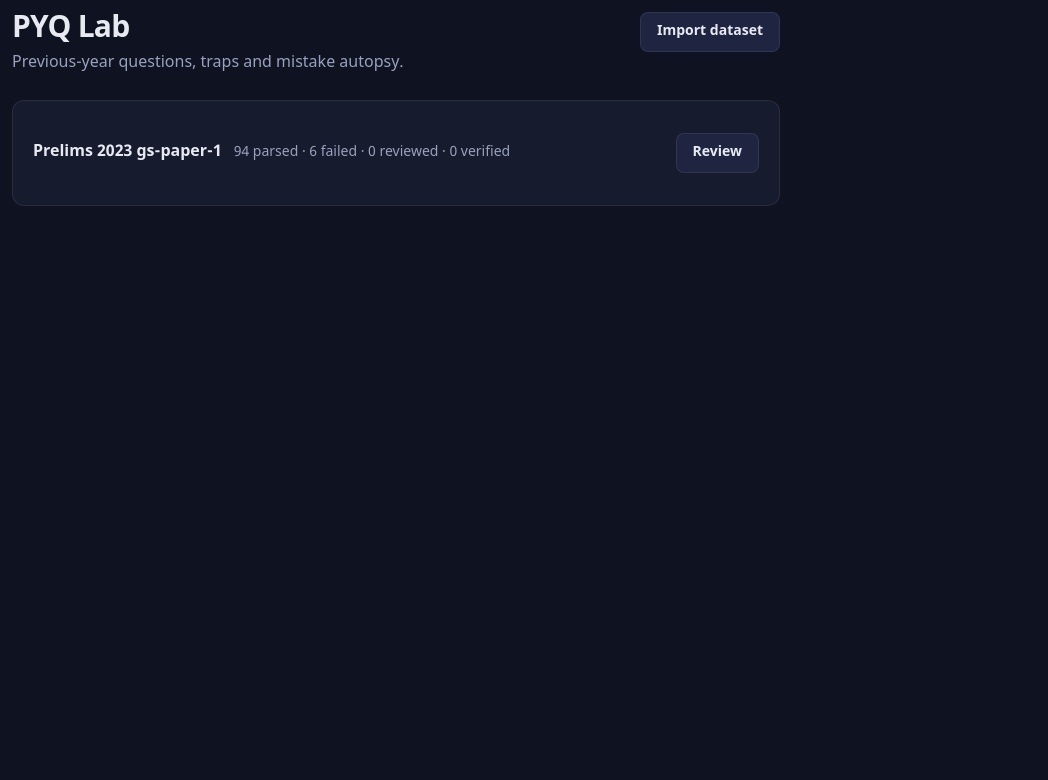
Test: PYQ screen › shows the raw text of a failed question next to the editor
Step 1. Click the button with aria-label "review prelims 2023 gs-paper-1" → [717, 153], box [676, 133, 759, 173]
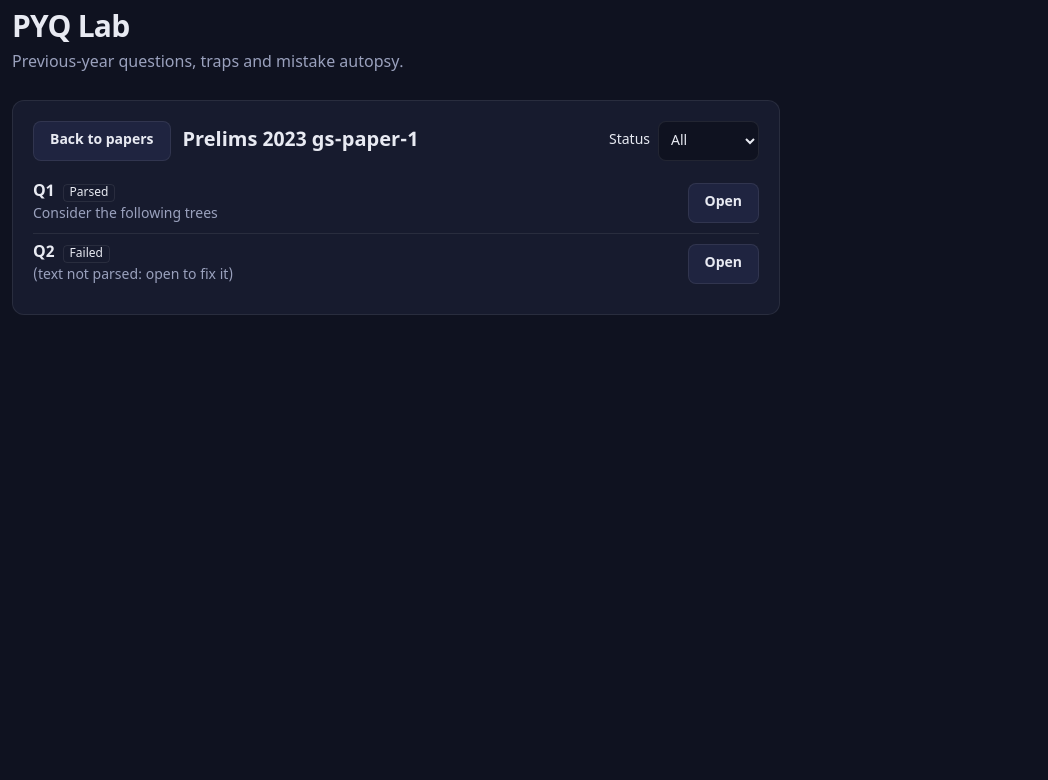
Step 2. Click the button with aria-label "open question 2" → [723, 264], box [688, 244, 759, 284]
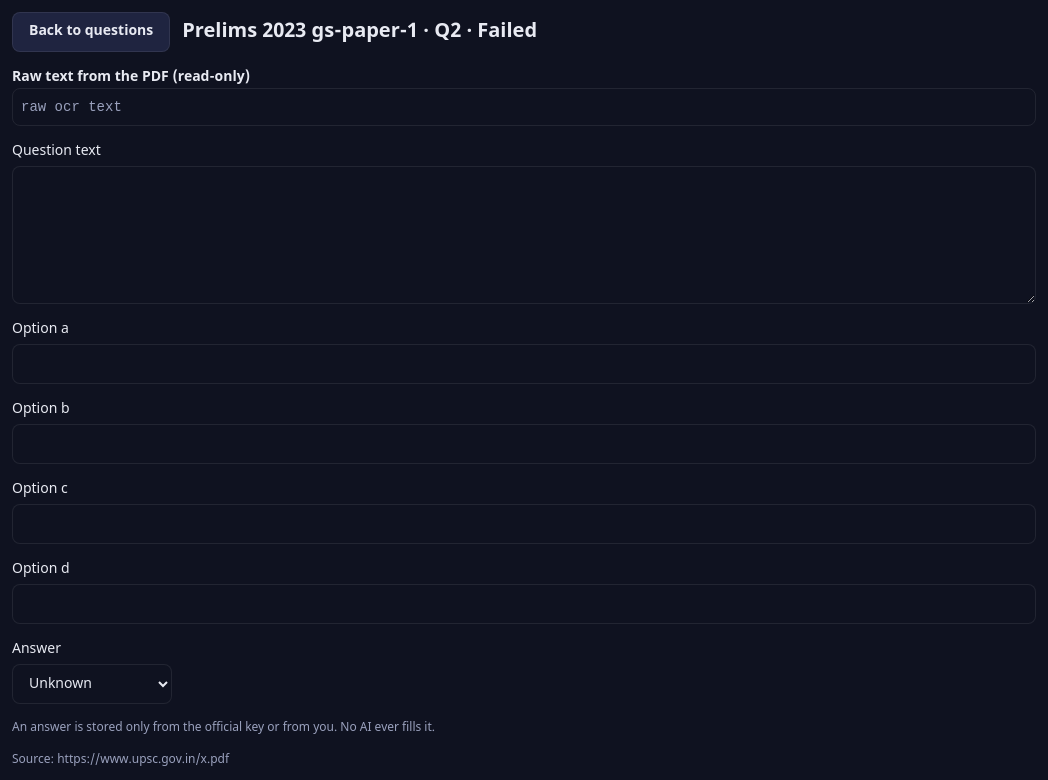
Check: the text "raw ocr text" is shown, box [12, 88, 1036, 126]
